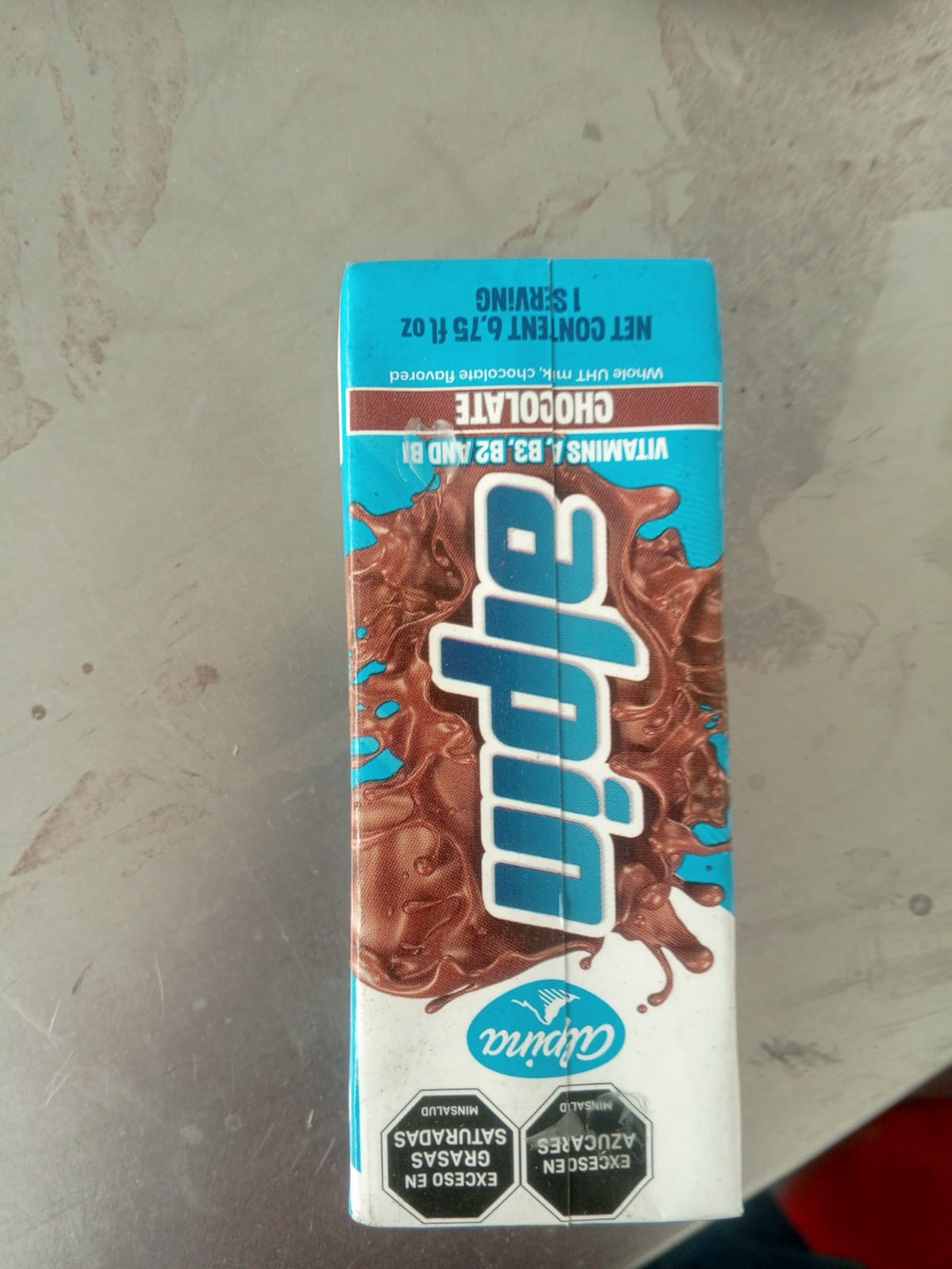Carton: (340, 260, 738, 1225)
